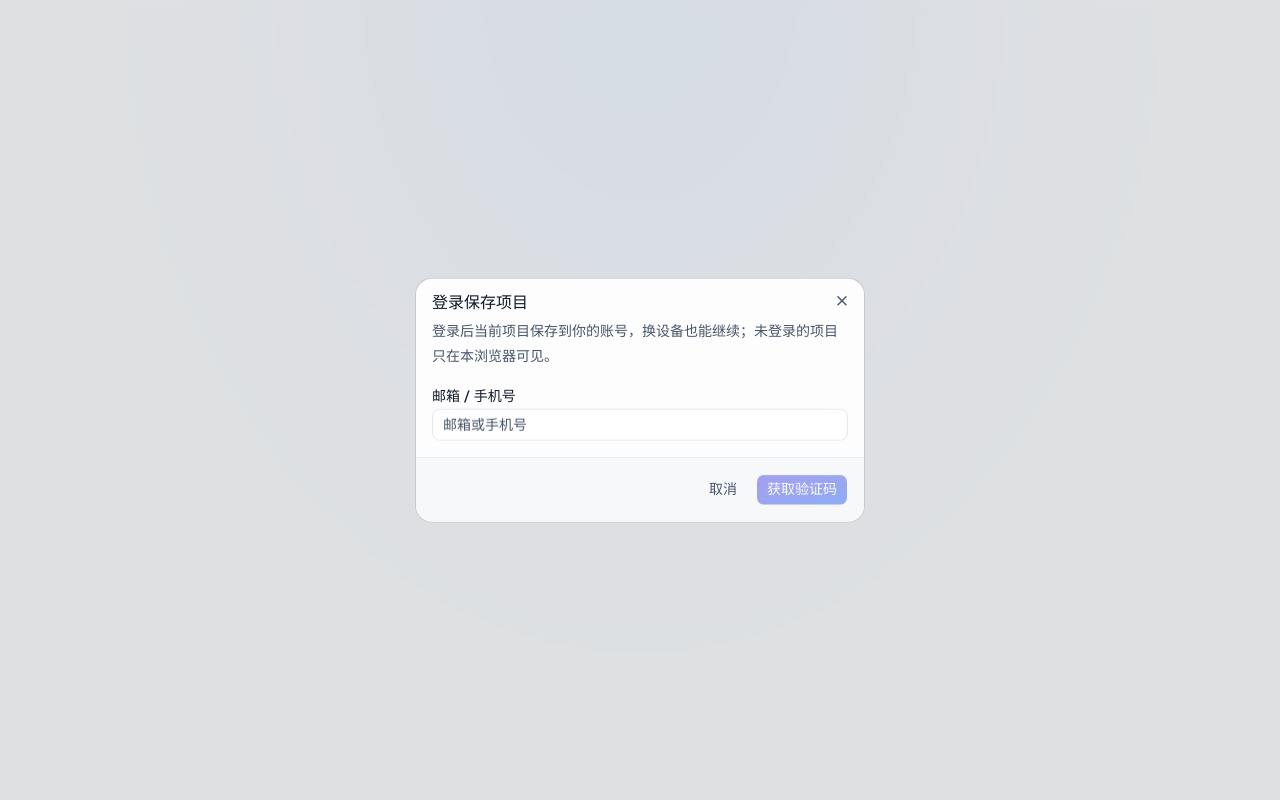
Scenario: M01Dialog · 错误就地提示 › 发码被频控（6007）：第一步就地提示，不进第二步
The image size is (1280, 800).
Type "user@example.com" into the field labelled "邮箱 / 手机号" at (640, 424), box [432,408,848,440]
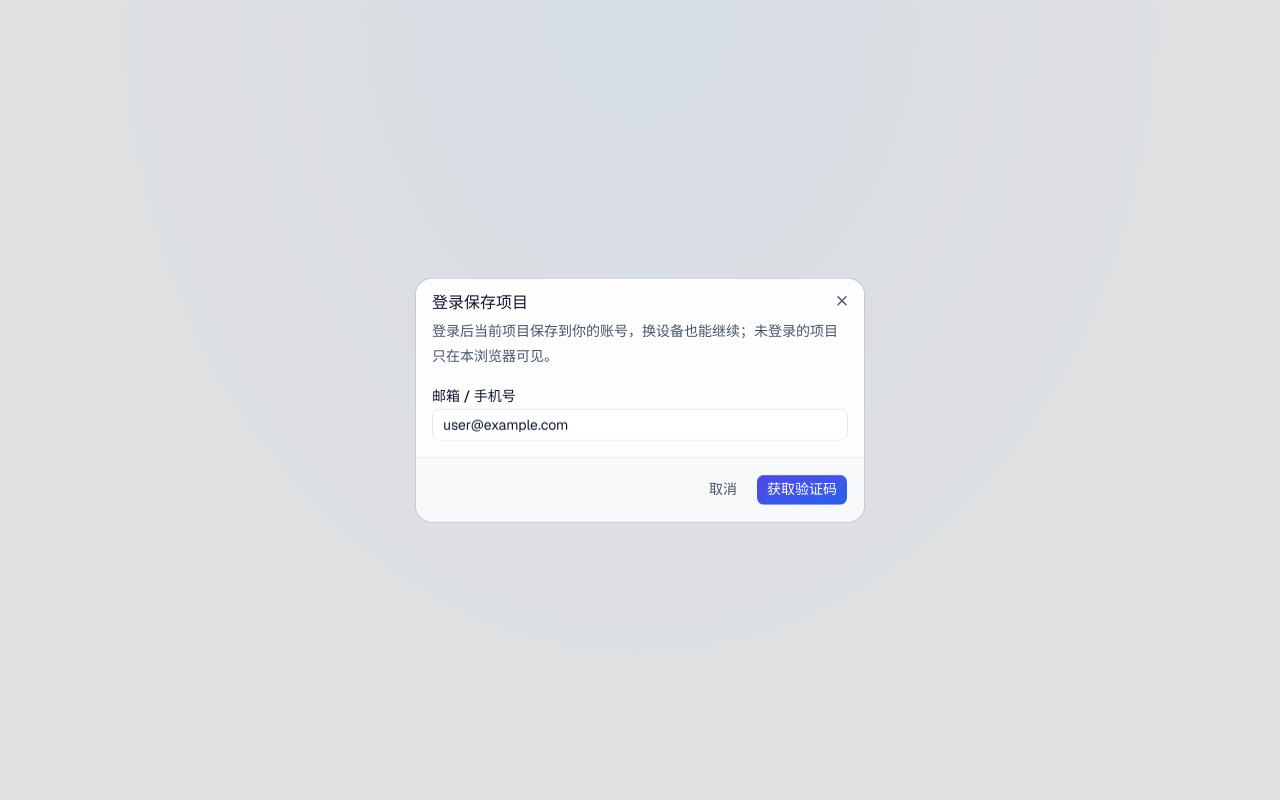
Click the button "获取验证码" at (802, 489), box [756,473,848,505]
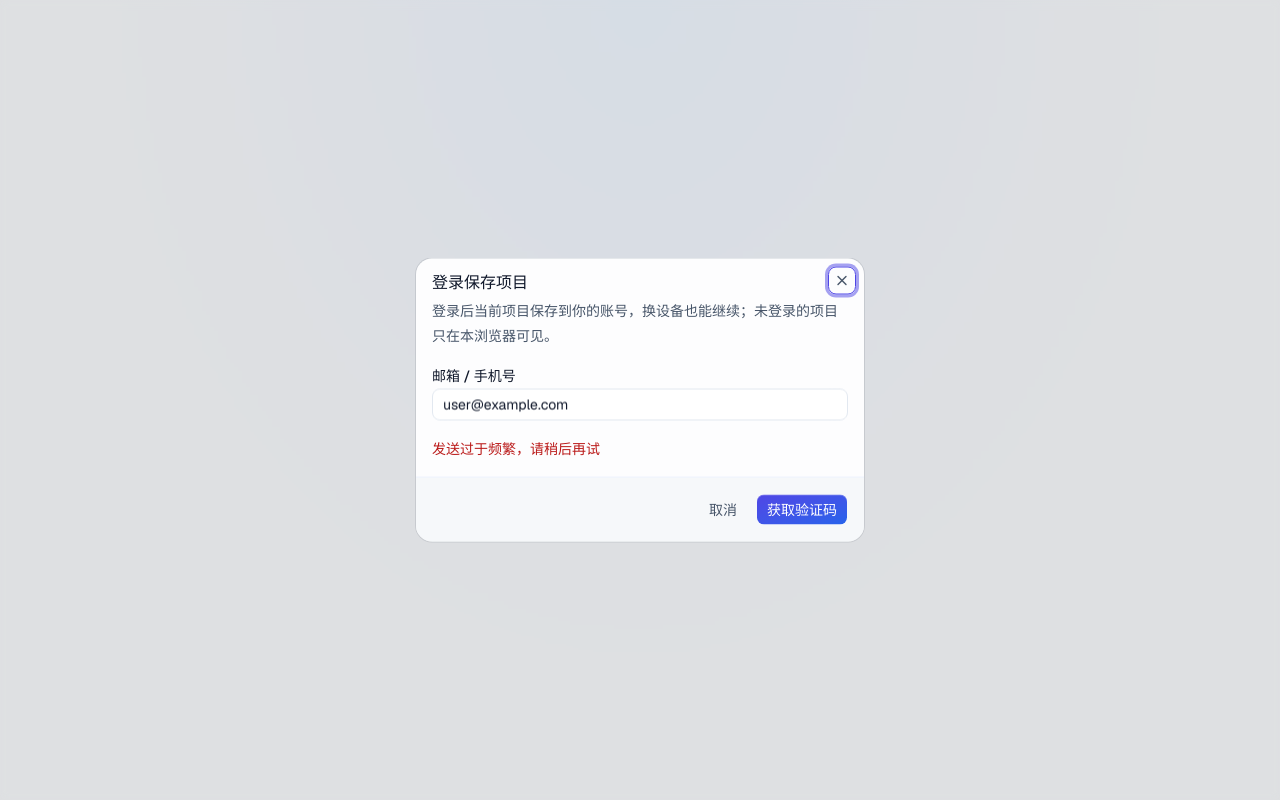
Expected: the button "获取验证码" is shown, [756,494,848,526]
Expected: the message reads "发送过于频繁，请稍后再试", [432,439,600,457]
